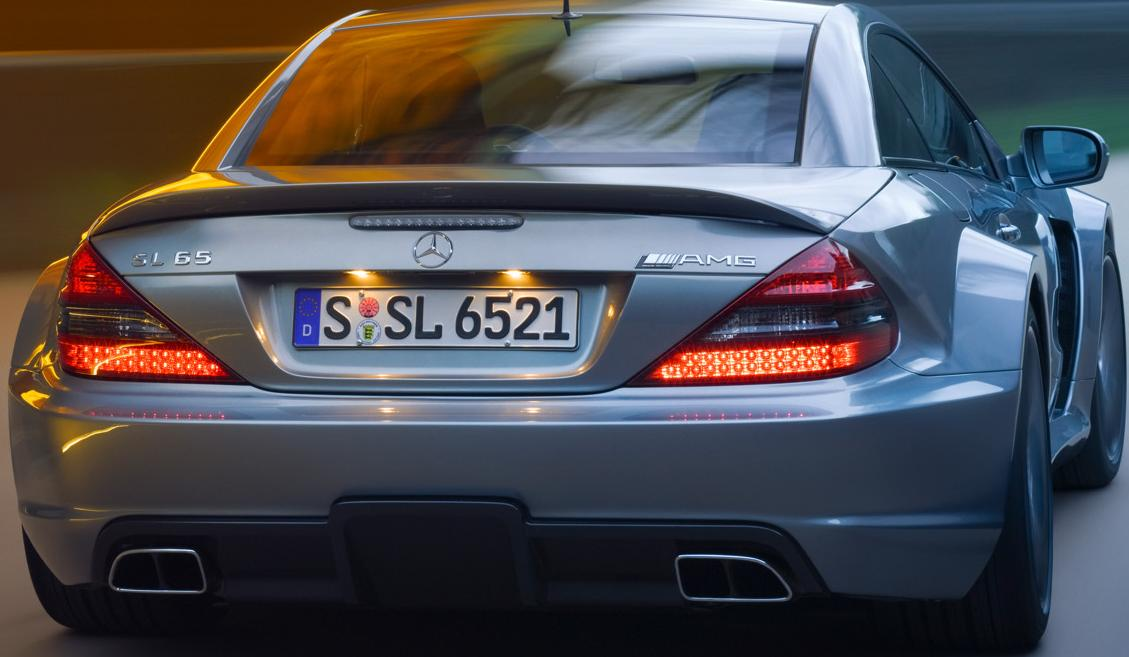back_view: (52, 230, 1012, 609)
backlight: (615, 206, 955, 473)
side_glass: (890, 17, 999, 170)
